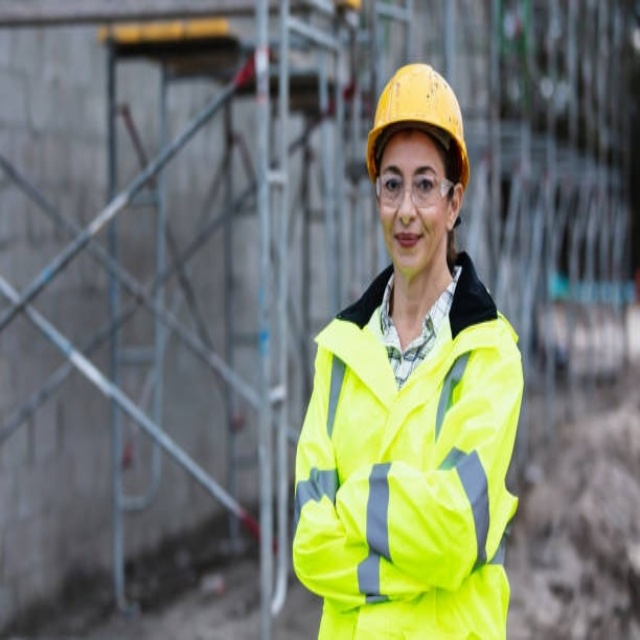Gafas: (376, 175, 455, 209)
Sin_mascara: (388, 220, 432, 267)
